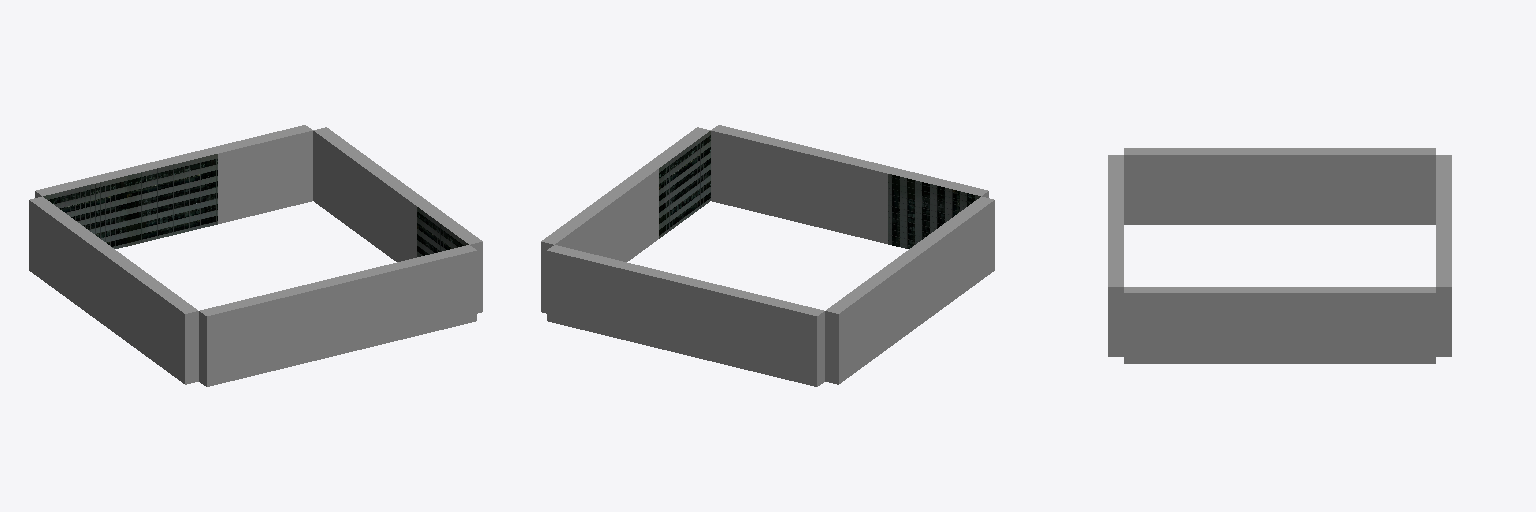
3 views of the same model, side by side, from view 1: azimuth 30°, elevation 25°; view 2: azimuth 150°, elevation 25°; view 3: azimuth 270°, elevation 25° (orthographic).
Visible parts, largest first — view 1: Cube.003; view 2: Cube.003; view 3: Cube.003.
Part boxes in pixels (bbox=[...]): Cube.003: bbox=[29, 125, 482, 386]; Cube.003: bbox=[541, 125, 994, 386]; Cube.003: bbox=[1108, 148, 1451, 363].
Bounding box in the file's own units: 440 × 100 × 440.
4 materials, 1 textured.